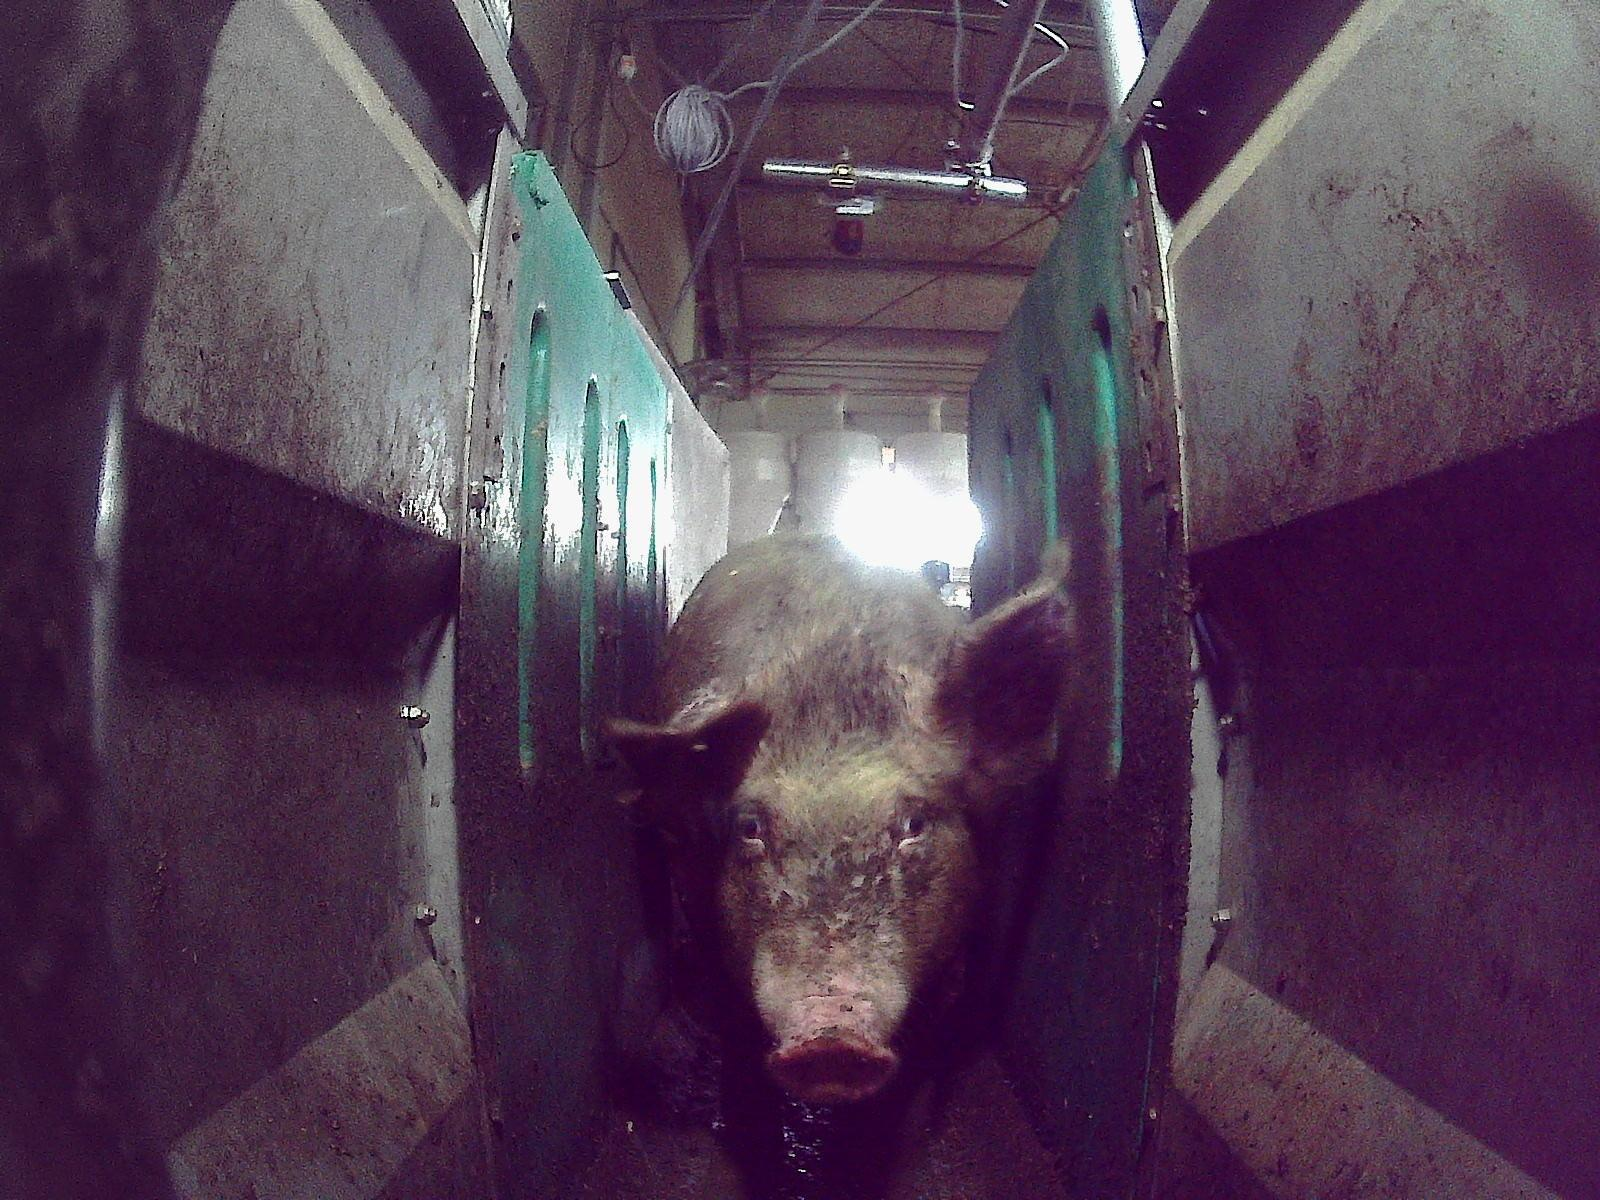Face: (673, 653, 976, 1098)
